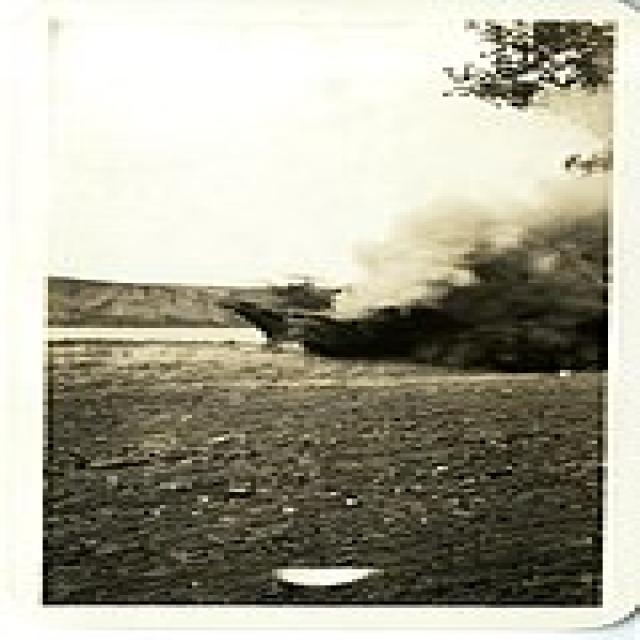explosion: (281, 82, 640, 382)
